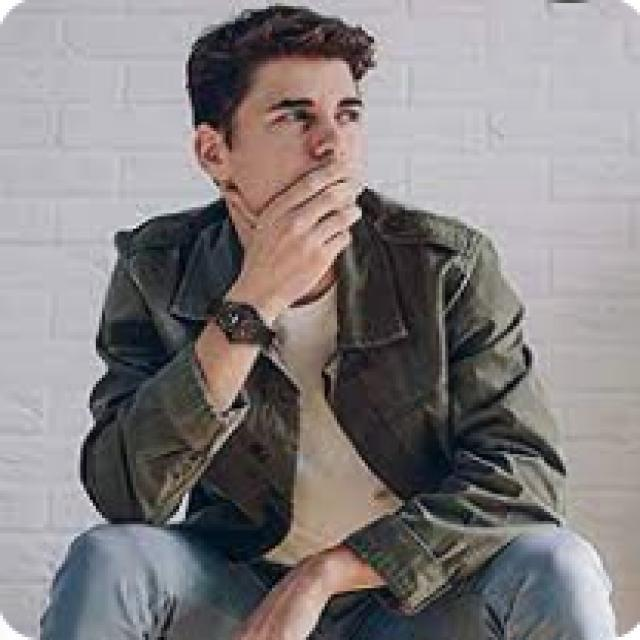Watch: (208, 294, 282, 355)
